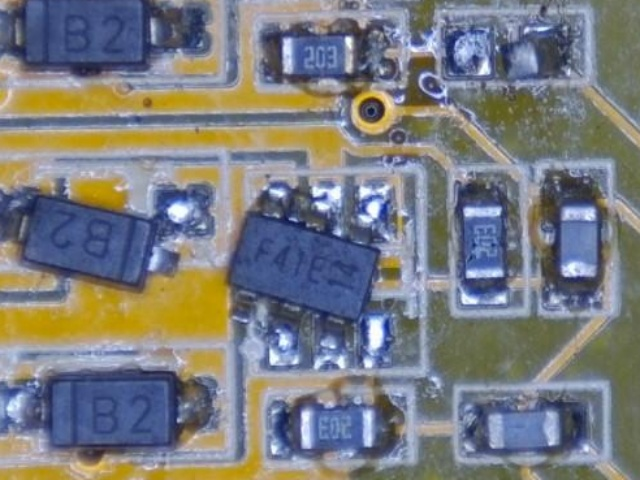pcb_defect: (227, 181, 393, 371), (0, 186, 211, 295), (443, 25, 570, 81)
